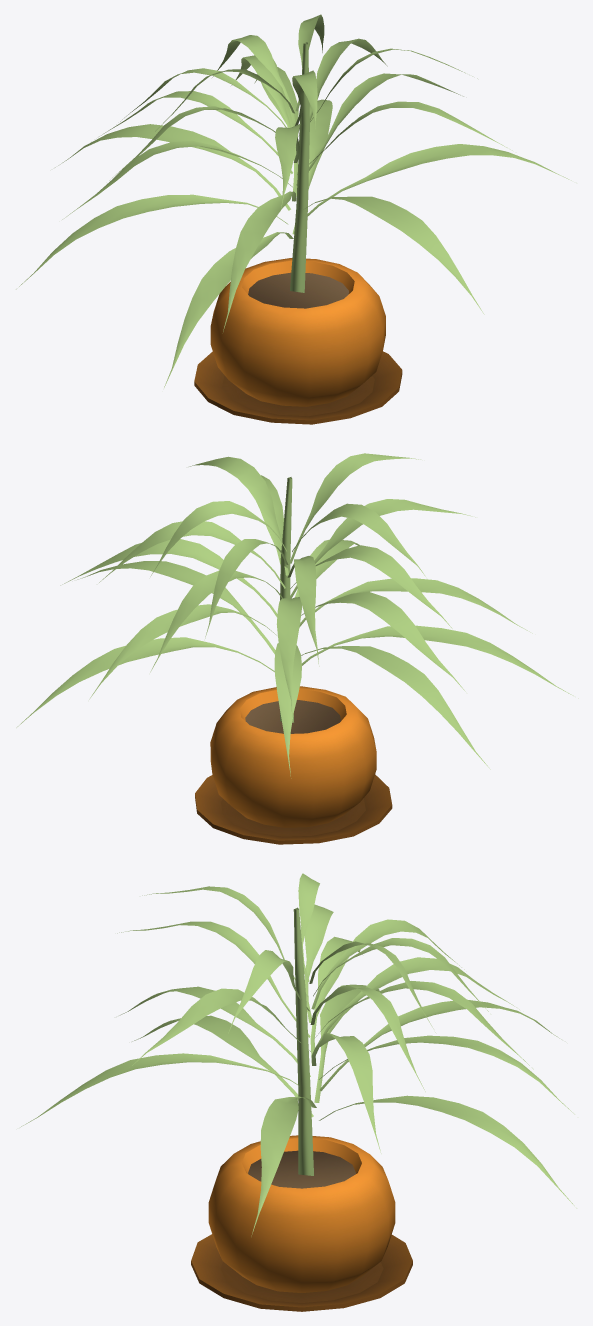
The model's file is plant01.fbx.
The picture shows the model from 3 angles, top to bottom: view 1: azimuth 30°, elevation 25°; view 2: azimuth 150°, elevation 25°; view 3: azimuth 270°, elevation 25°; orthographic projection. The views are drawn at different scales.
Visible parts, largest first — view 1: plant01; view 2: plant01; view 3: plant01.
Boxes of the visible parts, x1,y1,x2,y2 form: plant01: [16, 14, 571, 424]; plant01: [16, 453, 578, 844]; plant01: [20, 873, 576, 1311].
Bounding box in the file's own units: 3.09 × 2.07 × 2.82.
